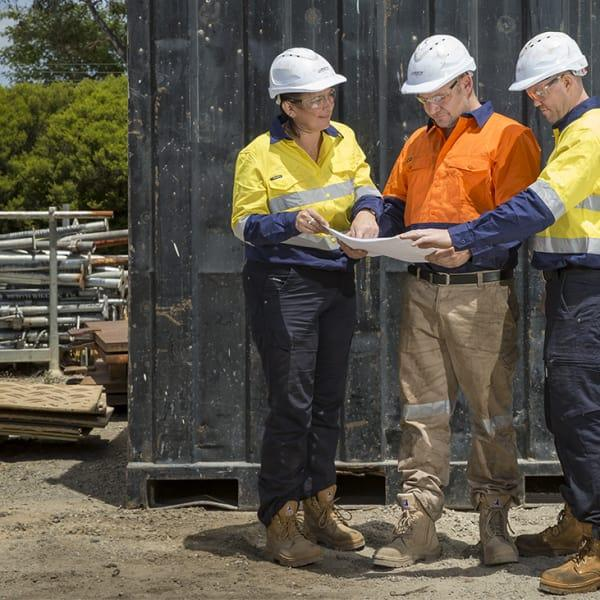helmet: (512, 31, 590, 93), (401, 35, 476, 96), (271, 52, 346, 97)
